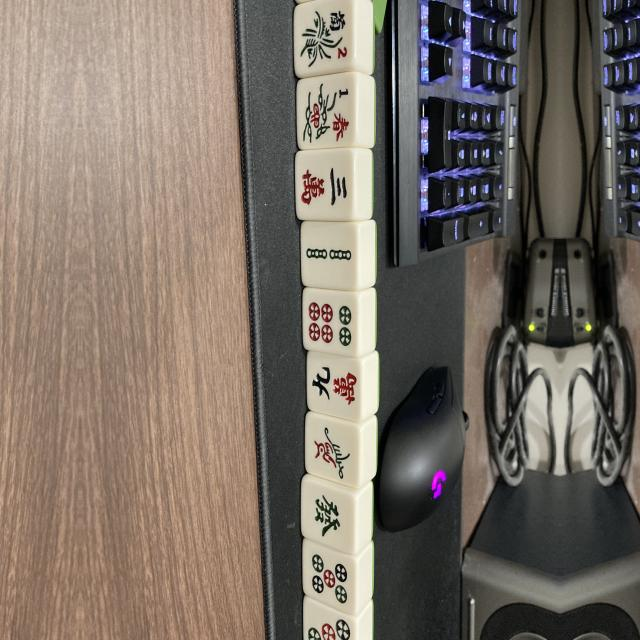f2: (298, 0, 356, 72)
fa: (304, 479, 352, 546)
ff1: (297, 77, 353, 149)
m3: (299, 155, 353, 222)
m9: (310, 354, 365, 419)
s1: (304, 416, 360, 488)
s2: (301, 224, 356, 286)
t5: (306, 549, 356, 615)
t6: (304, 292, 358, 356)
